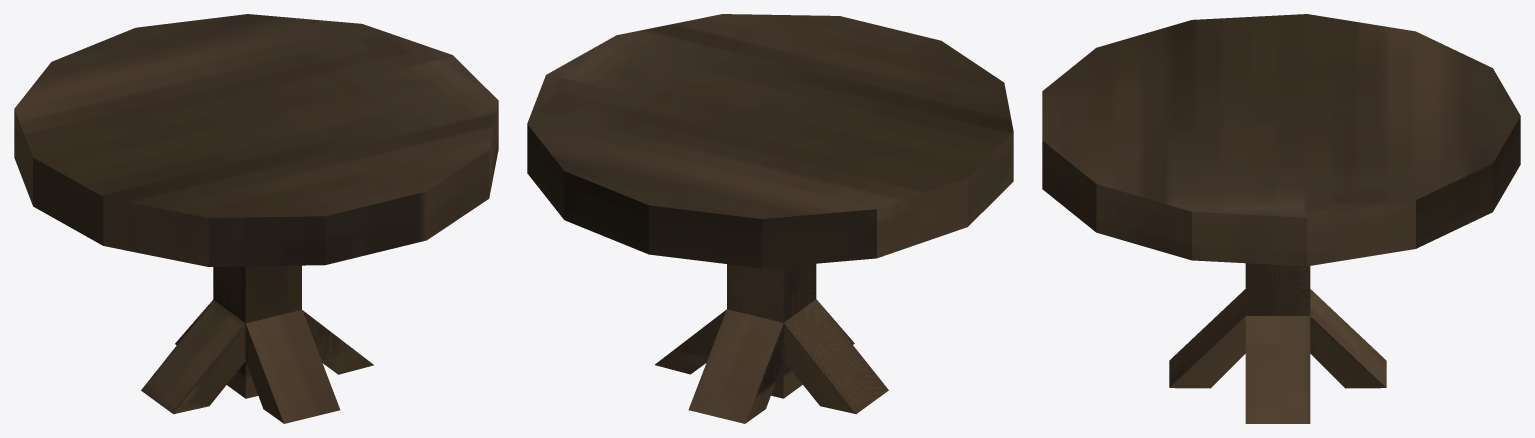
File: table.glb
The picture shows the model from 3 angles, left to right: view 1: azimuth 30°, elevation 25°; view 2: azimuth 150°, elevation 25°; view 3: azimuth 270°, elevation 25°; orthographic projection.
Parts seen in each view (by area): view 1: Cube; view 2: Cube; view 3: Cube.
Part boxes in pixels (x1,y1,x2,y2): Cube: (14, 14, 498, 423); Cube: (527, 14, 1013, 423); Cube: (1042, 14, 1520, 423).
Size of the model in its own units: 1.99 by 1.19 by 1.97.
2 materials, 1 textured.
